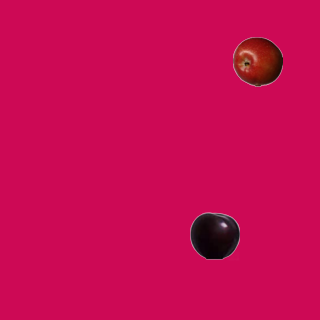Apple Braeburn: (232, 36, 282, 86)
Cherry Wax Black: (189, 210, 239, 260)
